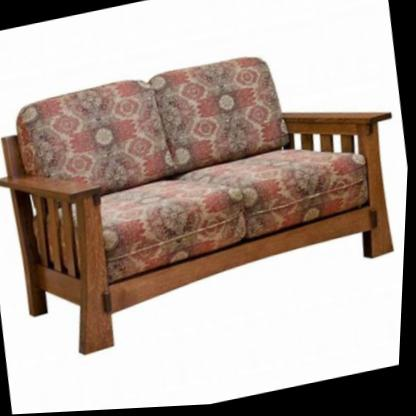Sofa: (0, 28, 414, 370)
